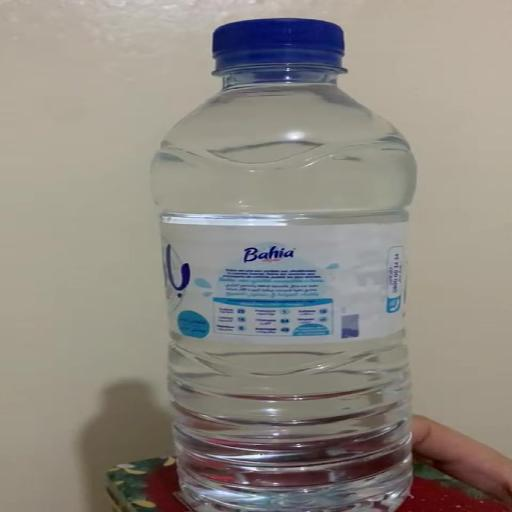bouteille conformite: (153, 17, 416, 511)
